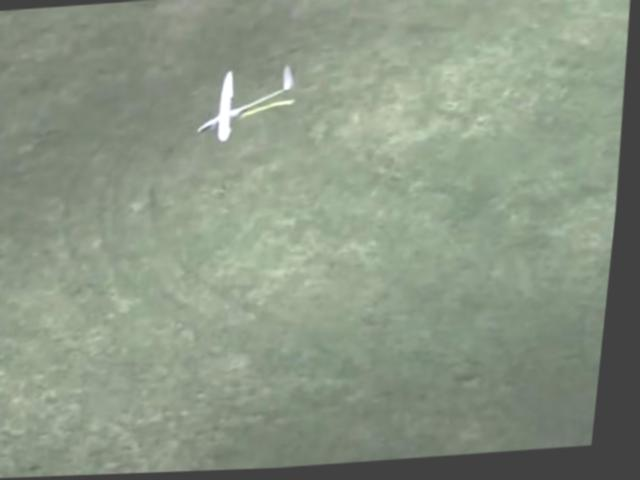flying wing: (195, 61, 308, 150)
